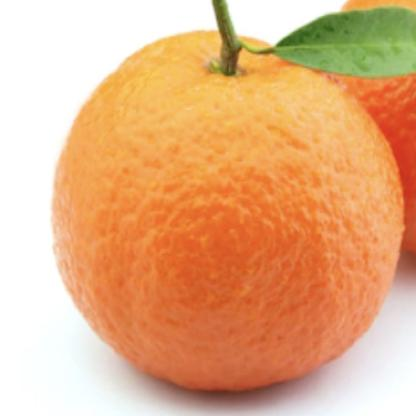fresh: (51, 26, 406, 391)
